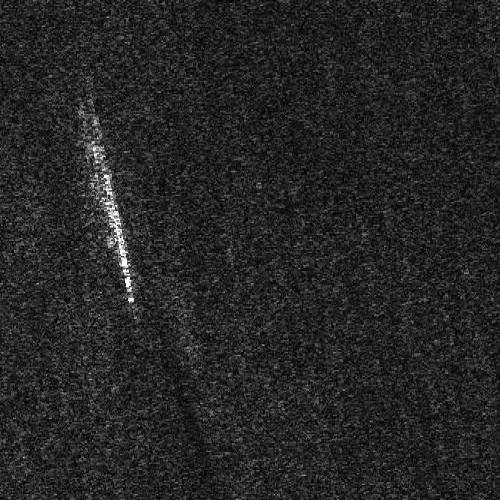ship: (101, 167, 134, 305)
